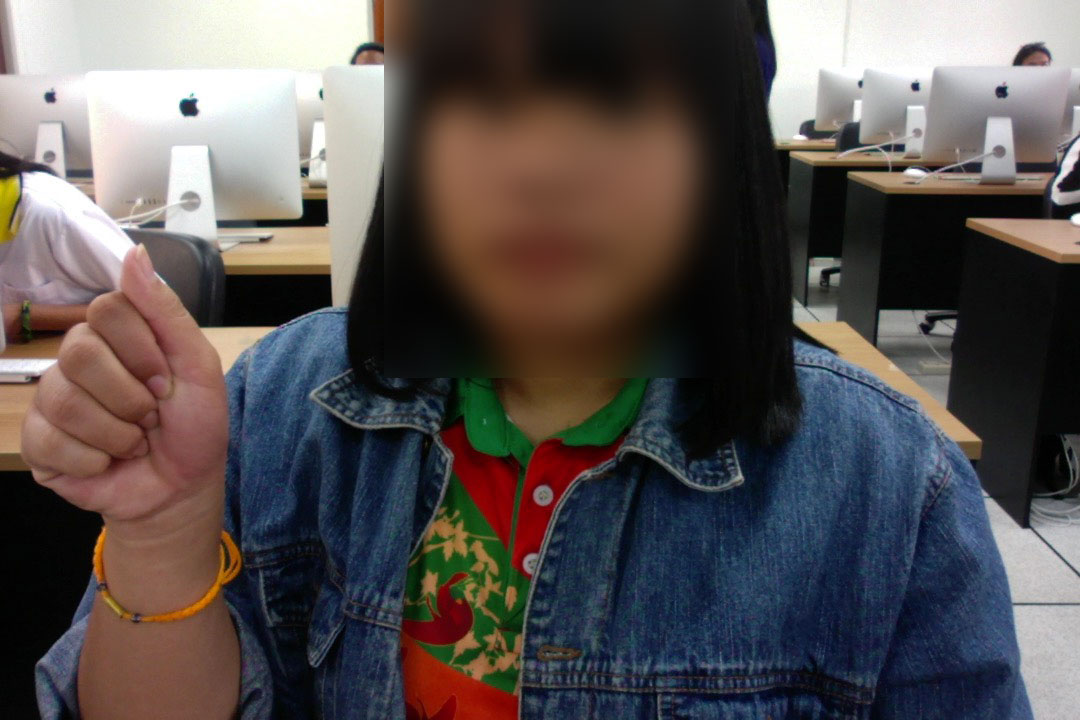or: (14, 241, 256, 536)
